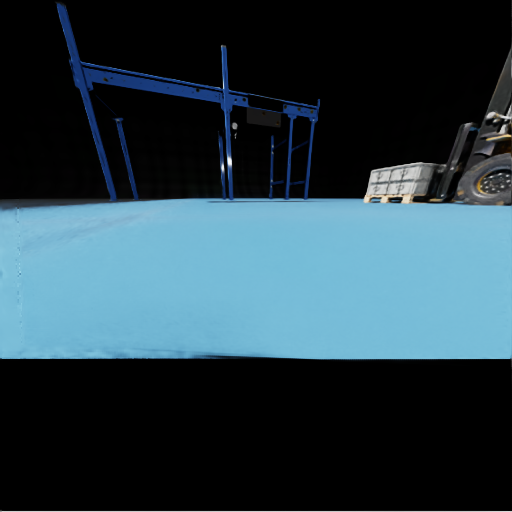transportation_area: (387, 179, 439, 194), (222, 96, 223, 97)
